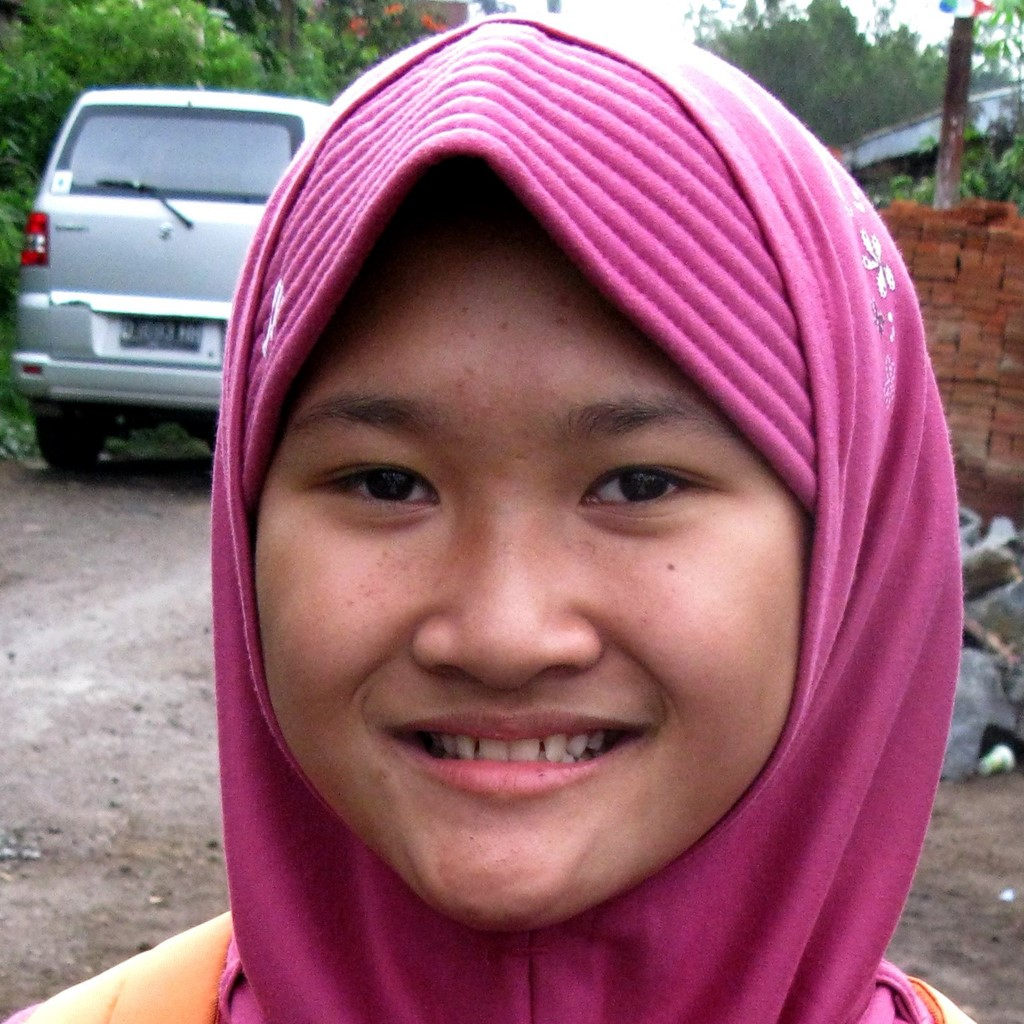sin_mascara: (240, 159, 841, 911)
